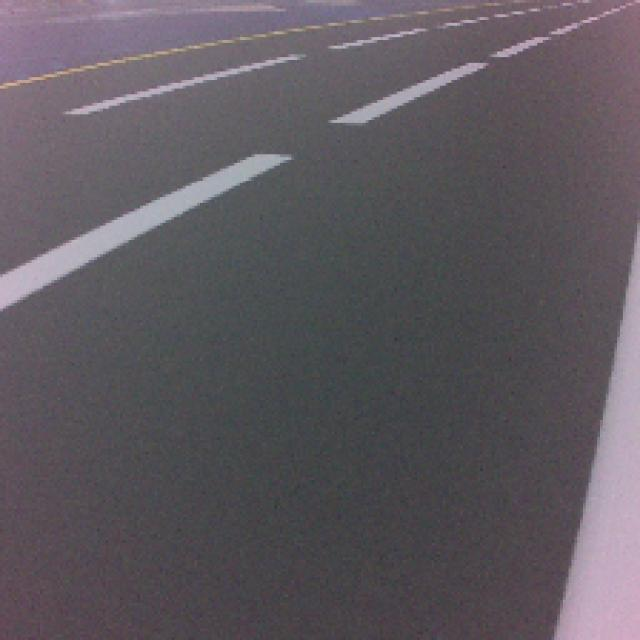Road: (0, 255, 611, 638)
